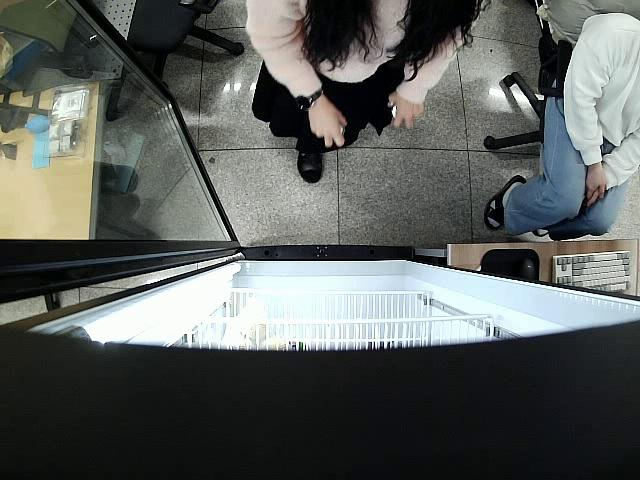00_hand: (385, 93, 424, 133), (310, 109, 348, 149)
